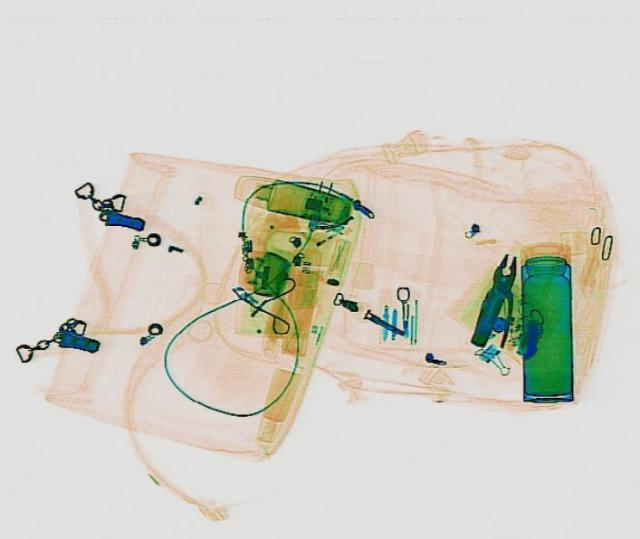Pliers: (466, 249, 532, 346)
